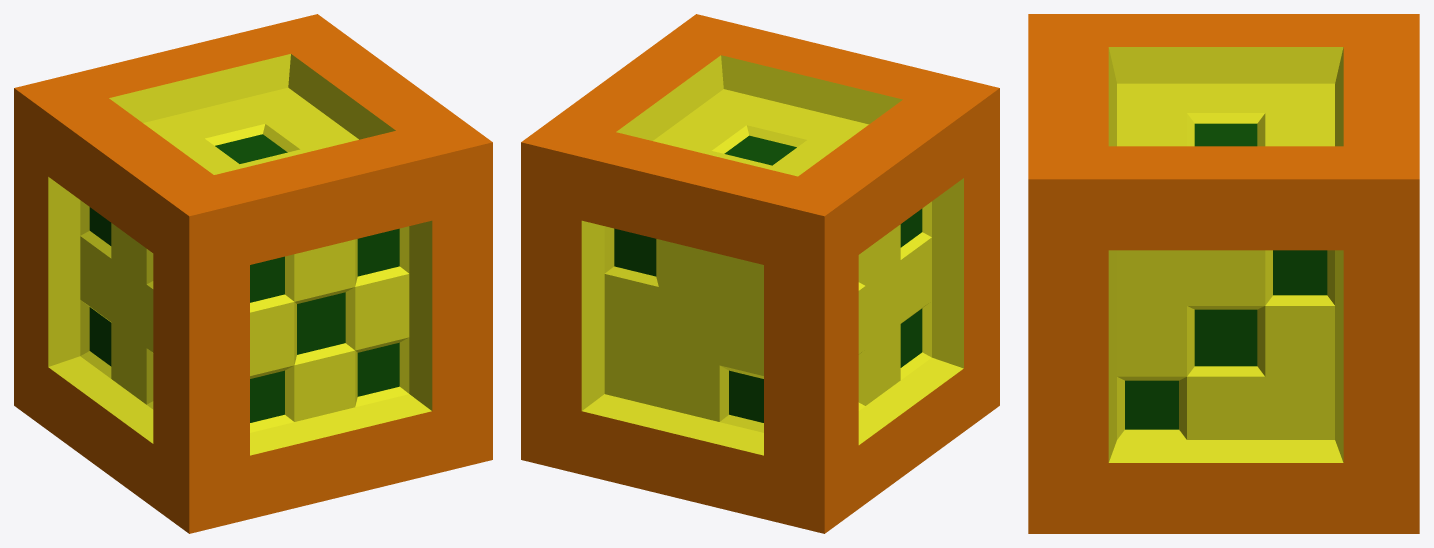
Rendered from Dice.fbx.
3 views of the same model, side by side, from view 1: azimuth 30°, elevation 25°; view 2: azimuth 150°, elevation 25°; view 3: azimuth 270°, elevation 25° (orthographic). The views are drawn at different scales.
Parts seen in each view (by area): view 1: Cube; view 2: Cube; view 3: Cube.
Part boxes in pixels (x1,y1,x2,y2): Cube: (14,14,492,533); Cube: (521,14,999,533); Cube: (1028,14,1419,533).
Size of the model in its own units: 200 by 200 by 200.
